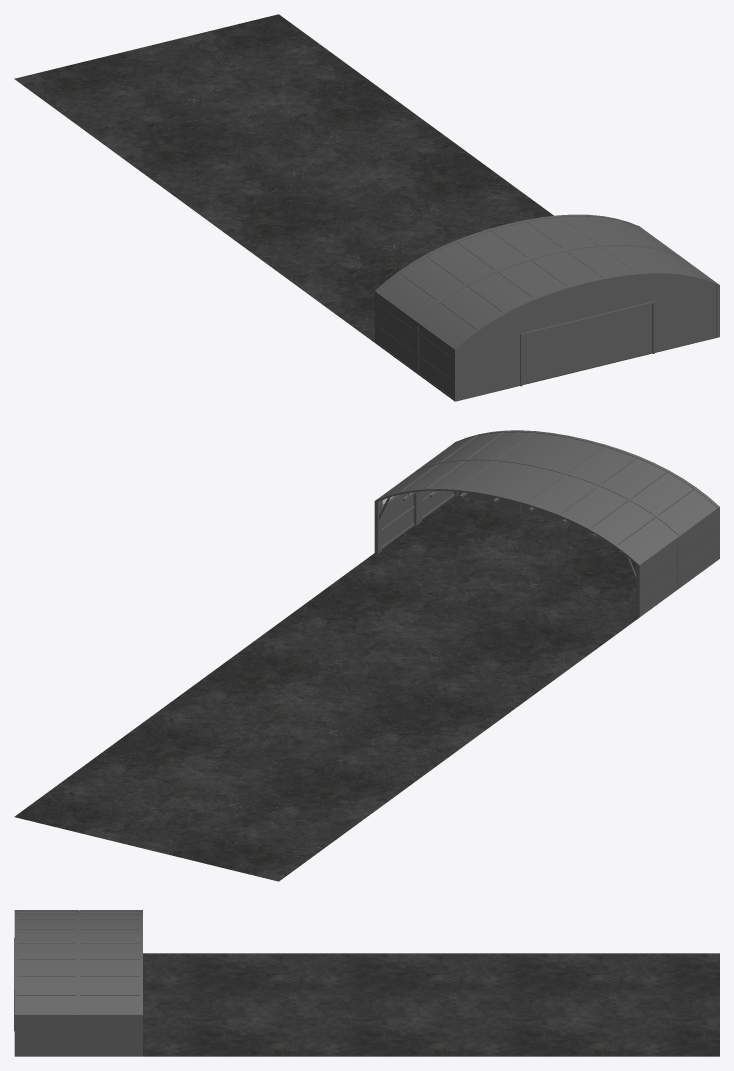
Rendered from warehouse.fbx.
3 views of the same model, one above another, from view 1: azimuth 30°, elevation 25°; view 2: azimuth 150°, elevation 25°; view 3: azimuth 270°, elevation 25° (orthographic). The views are drawn at different scales.
Parts seen in each view (by area): view 1: Ground, Start, Naka, Cot; view 2: Ground, Start, Naka, Cot; view 3: Ground, Start, Naka, Cot.
Part boxes in pixels (bbox=[...]): Ground: bbox=[14, 14, 716, 400]; Start: bbox=[415, 244, 719, 401]; Naka: bbox=[376, 216, 678, 371]; Cot: bbox=[374, 214, 641, 343]; Ground: bbox=[14, 495, 639, 881]; Start: bbox=[415, 430, 719, 587]; Naka: bbox=[378, 460, 679, 615]; Cot: bbox=[374, 487, 641, 617]; Ground: bbox=[143, 953, 719, 1056]; Start: bbox=[14, 910, 78, 1056]; Naka: bbox=[78, 910, 139, 1056]; Cot: bbox=[140, 910, 142, 1056].
Bounding box in the file's own units: 1600 × 502 × 4619.
Materials: 3 (1 with a texture image).
